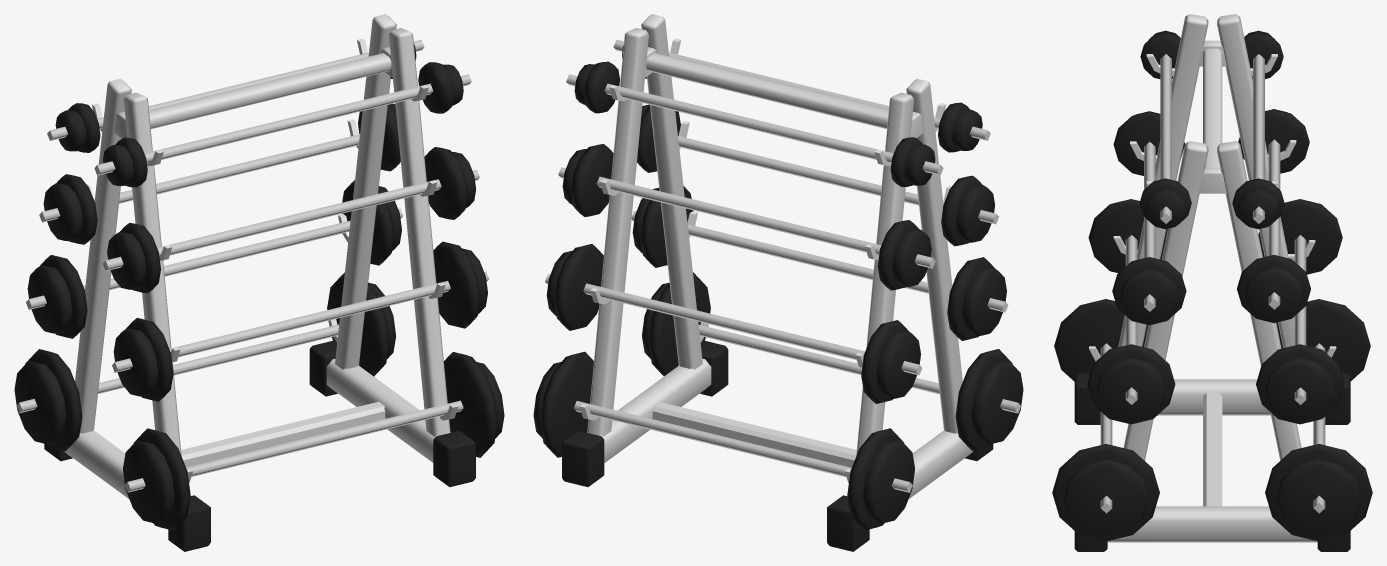
Rendered from training_012.fbx.
3 views of the same model, side by side, from view 1: azimuth 30°, elevation 25°; view 2: azimuth 150°, elevation 25°; view 3: azimuth 270°, elevation 25° (orthographic).
Visible parts, largest first — view 1: training_012; view 2: training_012; view 3: training_012.
Part boxes in pixels (x1=…): training_012: x1=14, y1=14, x2=504, y2=551; training_012: x1=533, y1=14, x2=1023, y2=551; training_012: x1=1052, y1=14, x2=1372, y2=551.
Bounding box in the file's own units: 170 × 129 × 180.
